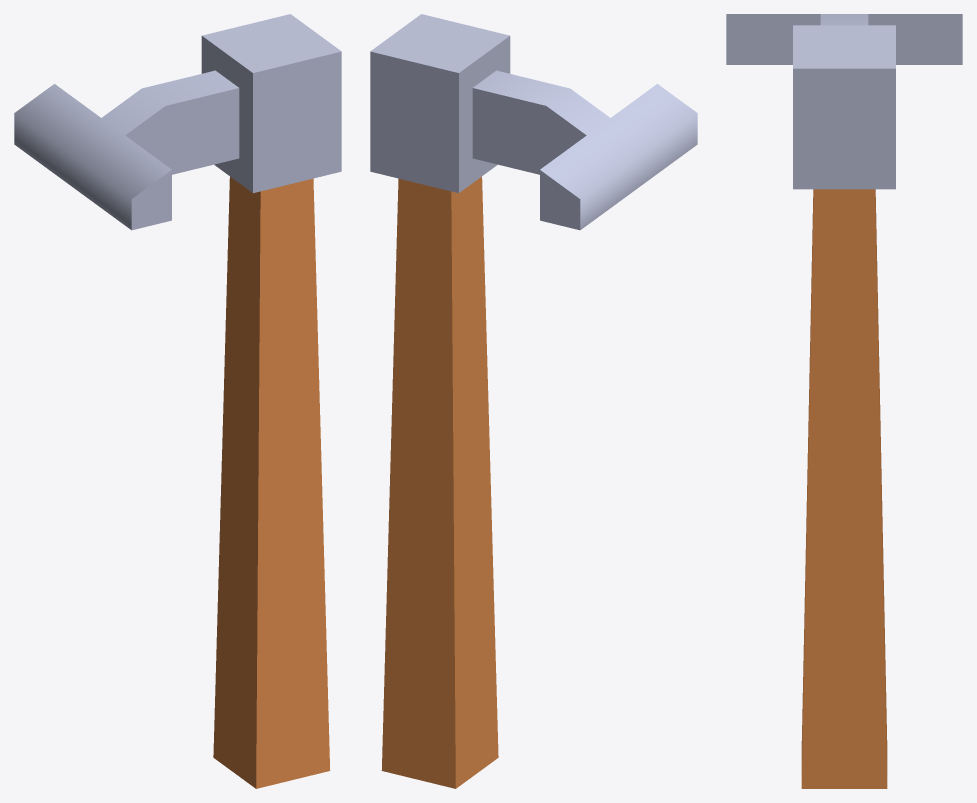
Rendered from tool-hoe.glb.
3 renders of one model, left to right at view 1: azimuth 30°, elevation 25°; view 2: azimuth 150°, elevation 25°; view 3: azimuth 270°, elevation 25°, orthographic.
Visible parts, largest first — view 1: toolHoe; view 2: toolHoe; view 3: toolHoe.
Boxes of the visible parts, x1=… form: toolHoe: x1=14, y1=14, x2=341, y2=788; toolHoe: x1=370, y1=14, x2=697, y2=788; toolHoe: x1=726, y1=14, x2=962, y2=788.
Bounding box in the file's own units: 0.0848 × 0.24 × 0.0709.
